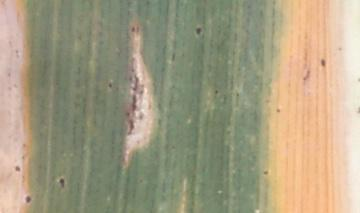tarspot: (131, 72, 140, 94), (126, 118, 135, 137), (131, 93, 138, 113), (57, 176, 66, 189), (302, 69, 311, 82), (23, 195, 33, 204), (13, 164, 22, 173), (195, 26, 203, 36), (319, 57, 326, 68), (274, 106, 282, 115), (128, 24, 136, 33), (234, 90, 241, 99), (106, 81, 113, 89), (261, 169, 269, 176), (354, 105, 360, 114), (213, 88, 219, 96), (171, 51, 175, 62), (336, 45, 342, 52), (356, 75, 360, 85)
